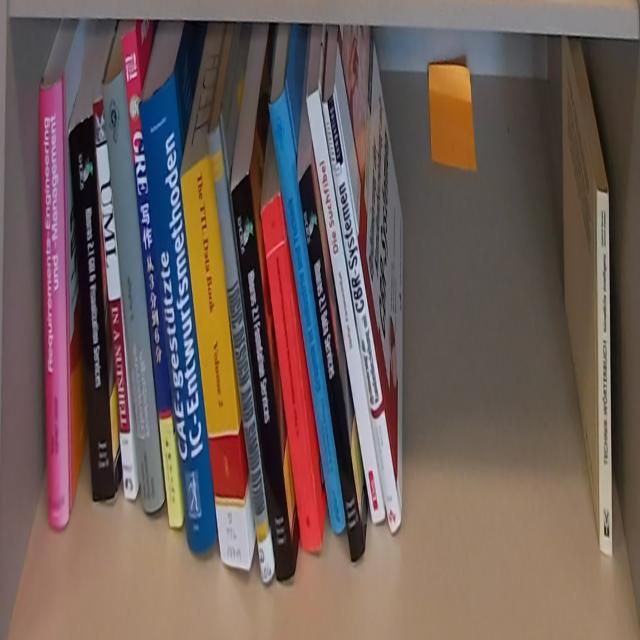Book Spine: (137, 75, 219, 558), (320, 93, 402, 541), (266, 86, 347, 535), (305, 91, 384, 524), (208, 120, 275, 587), (122, 26, 183, 531), (100, 69, 167, 515), (180, 155, 251, 567), (297, 168, 367, 568), (230, 175, 295, 585), (261, 190, 321, 548), (67, 113, 116, 499), (91, 94, 136, 502), (39, 78, 69, 532), (596, 189, 613, 561)
